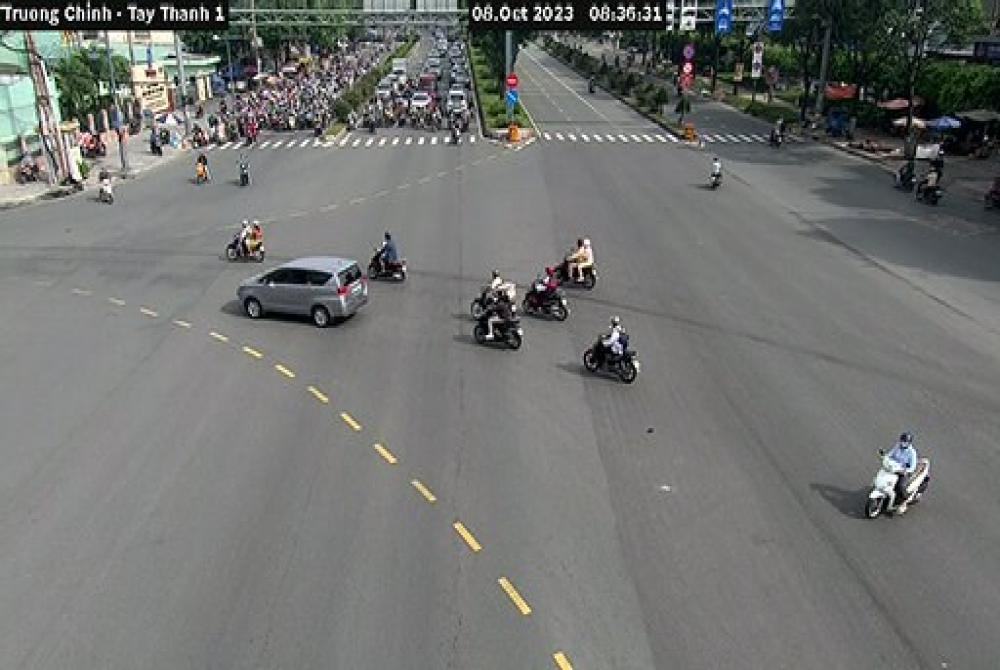car: (236, 257, 369, 332)
motorbike: (869, 456, 928, 518), (474, 311, 528, 355)
